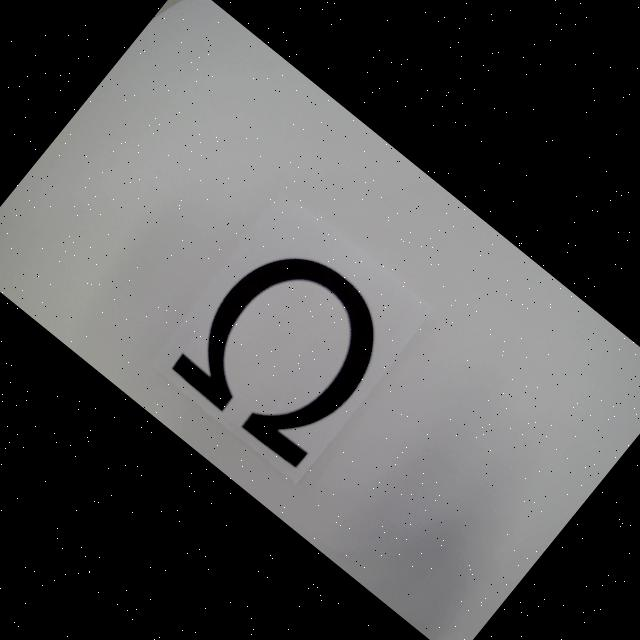OMEGA: (167, 227, 411, 473)
